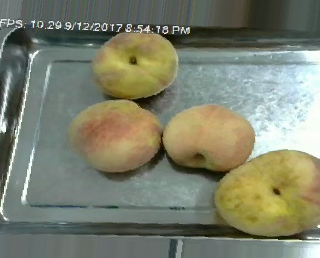Peach: (214, 150, 320, 236), (68, 100, 161, 172), (93, 28, 179, 99), (163, 105, 256, 169)
